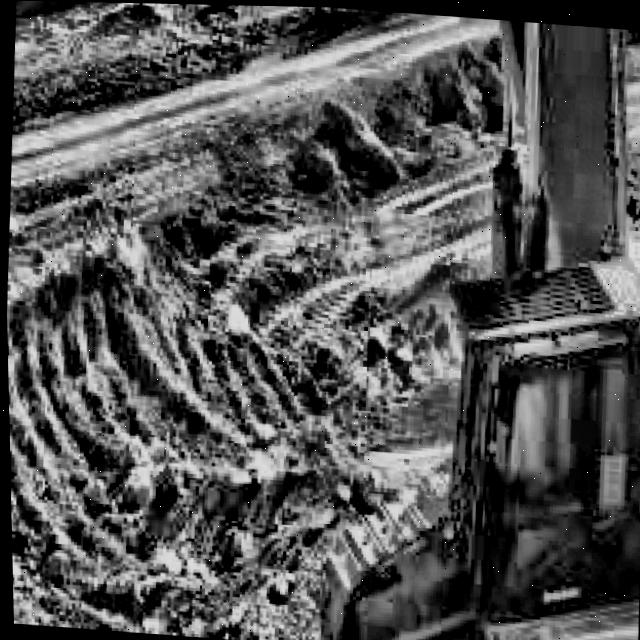excavator: (210, 4, 640, 640)
